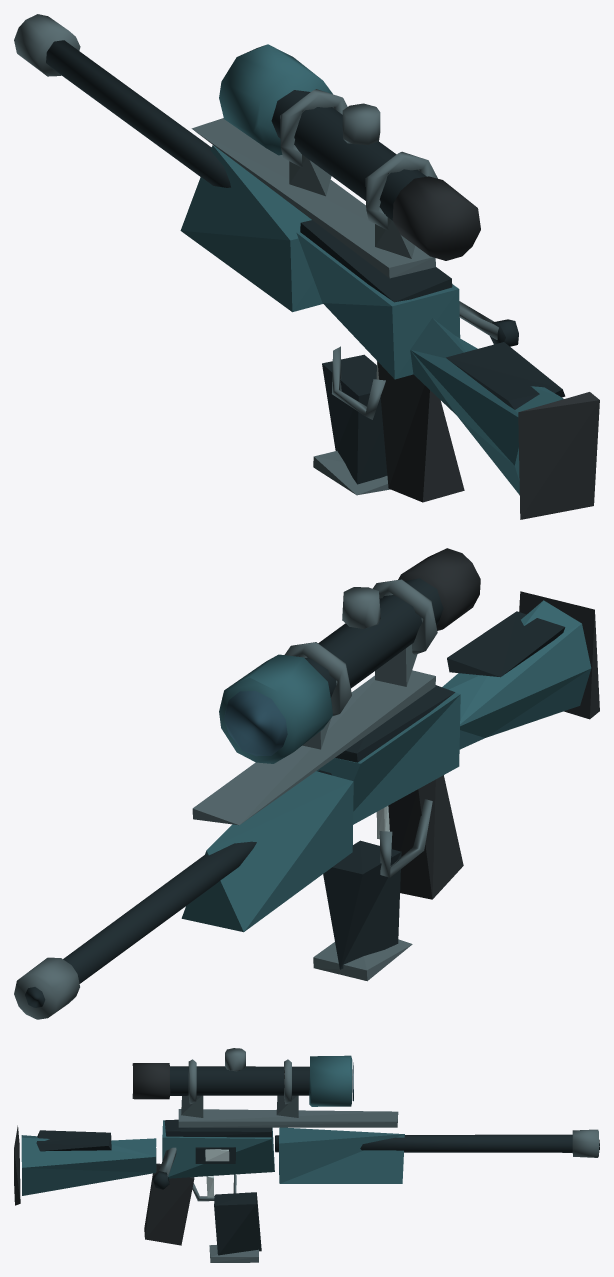
Rendered from longwatch-sniper.low.glb.
3 views of the same model, one above another, from view 1: azimuth 30°, elevation 25°; view 2: azimuth 150°, elevation 25°; view 3: azimuth 270°, elevation 25° (orthographic). The views are drawn at different scales.
Parts seen in each view (by area): view 1: geometry:body:3, geometry:body:0, geometry:body:4, geometry:body:1, geometry:magazine:5, geometry:magazine:6, geometry:bolt:8; view 2: geometry:body:3, geometry:body:1, geometry:body:4, geometry:body:0, geometry:magazine:5, geometry:body:10, geometry:magazine:6; view 3: geometry:body:3, geometry:body:4, geometry:body:1, geometry:body:0, geometry:magazine:5, geometry:magazine:6, geometry:bolt:7.
Part boxes in pixels (x1,y1,x2,y2): geometry:body:3: (180, 44, 563, 494); geometry:body:0: (377, 176, 599, 519); geometry:body:4: (46, 40, 565, 409); geometry:body:1: (14, 14, 437, 419); geometry:magazine:5: (322, 354, 387, 484); geometry:magazine:6: (313, 451, 390, 495); geometry:bolt:8: (459, 301, 498, 339); geometry:body:3: (181, 600, 591, 932); geometry:body:1: (14, 579, 437, 1019); geometry:body:4: (25, 578, 565, 1007); geometry:body:0: (388, 548, 599, 899); geometry:magazine:5: (323, 840, 401, 969); geometry:body:10: (224, 691, 287, 756); geometry:magazine:6: (313, 939, 412, 981); geometry:body:3: (21, 1055, 404, 1195); geometry:body:4: (36, 1066, 599, 1163); geometry:body:1: (178, 1048, 599, 1201); geometry:body:0: (14, 1063, 194, 1245); geometry:magazine:5: (214, 1192, 261, 1255); geometry:magazine:6: (209, 1245, 258, 1262); geometry:bolt:7: (205, 1149, 229, 1161).
Bounding box in the file's own units: 0.247 × 0.682 × 1.78.
